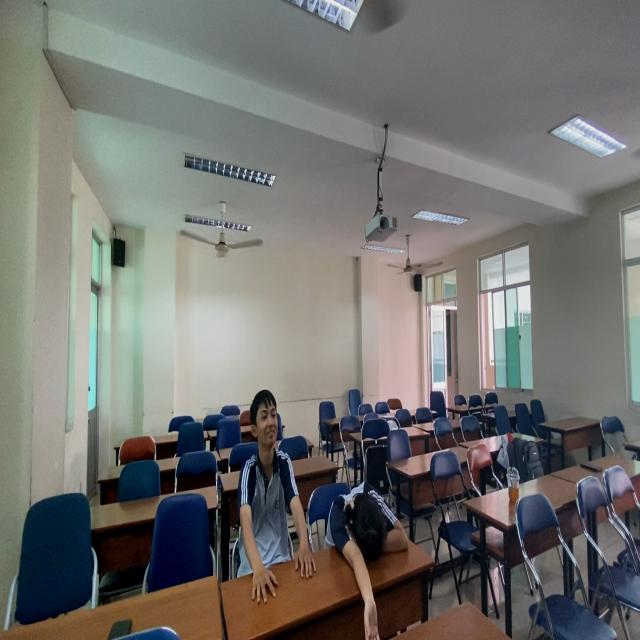sleep: (330, 479, 413, 570)
